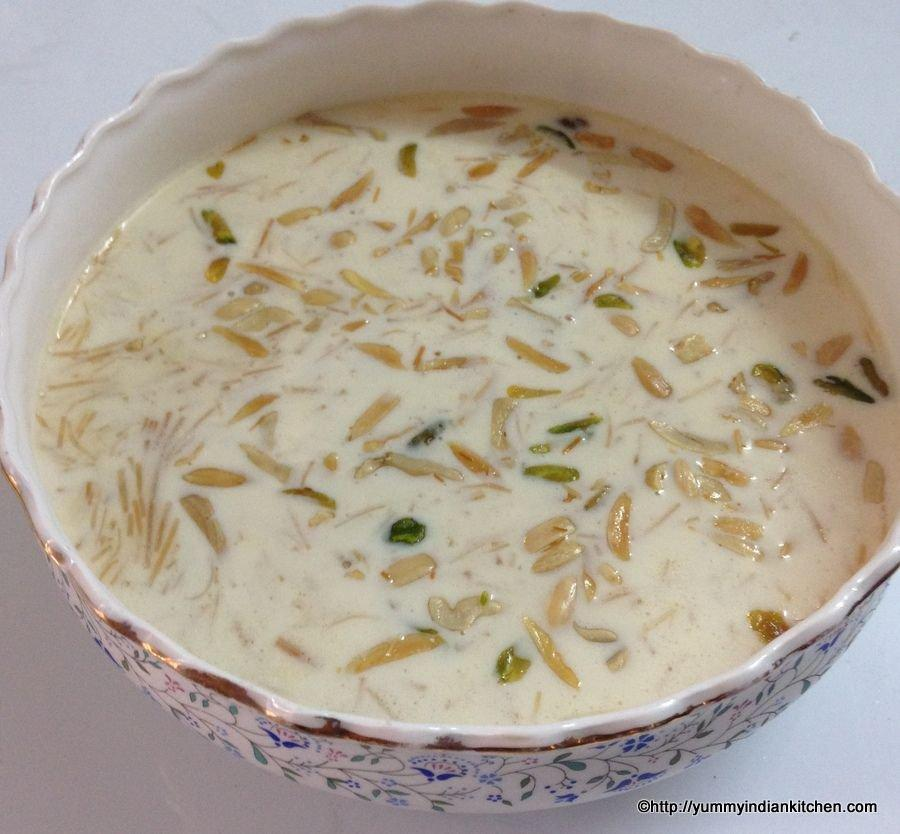kheer: (7, 20, 900, 802)
